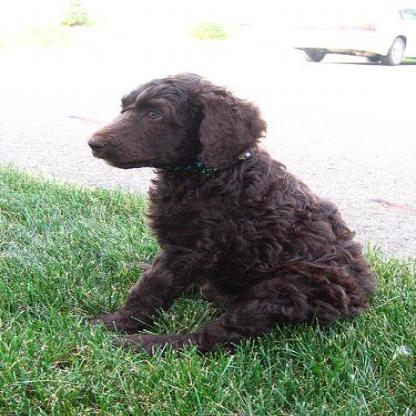standard_poodle: (78, 72, 377, 358)
